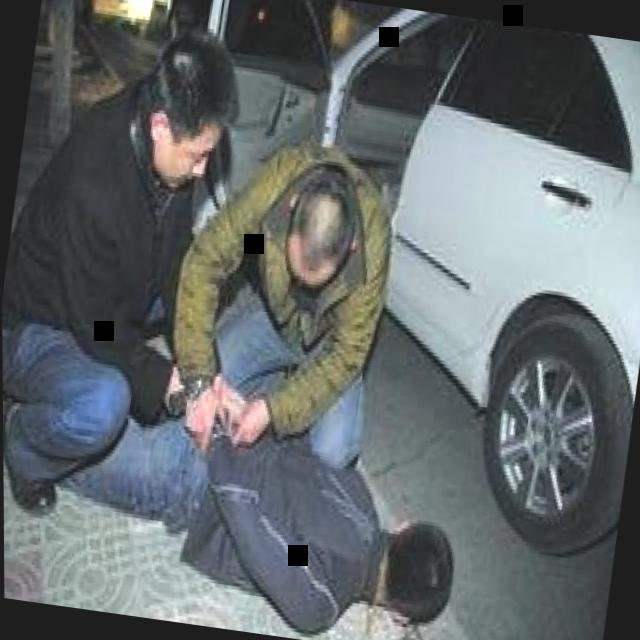Fall-Detected: (11, 329, 492, 640)
